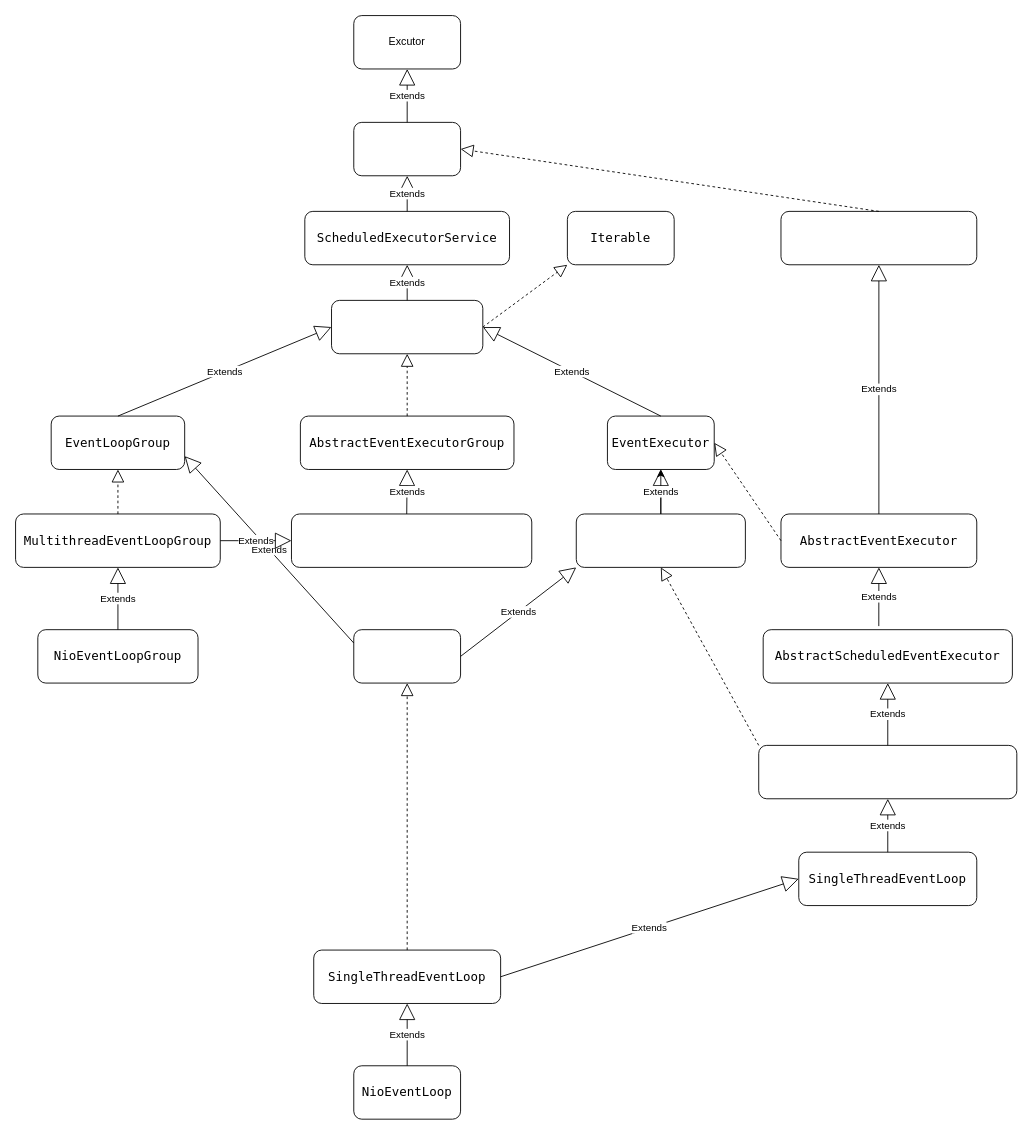
This 1032x1135 diagram has some shape labels left out. Here are the shapes that lost their labels. From the top down, the centre of each, then its label:
[407,148]: ExecutorService
[878,237]: AbstractExecutorService
[407,326]: EventExecutorGroup
[411,540]: MultithreadEventExecutorGroup
[660,540]: OrderedEventExecutor
[407,656]: EventLoop
[887,771]: SingleThreadEventExecutor
